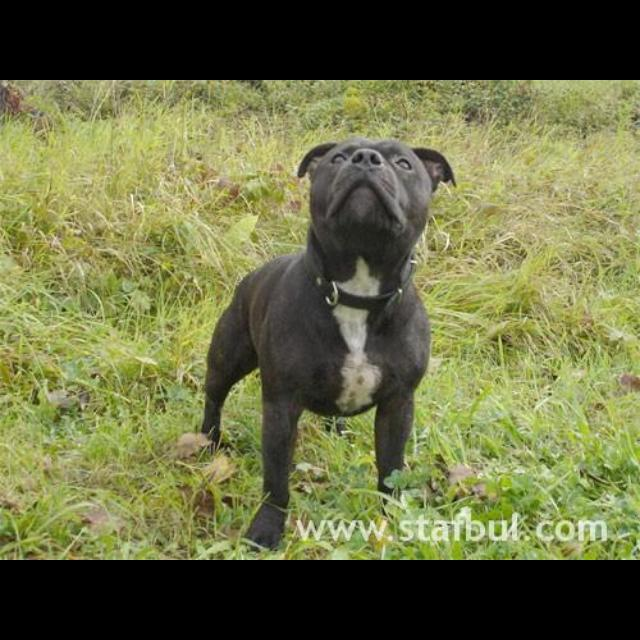staffford: (188, 136, 461, 552)
